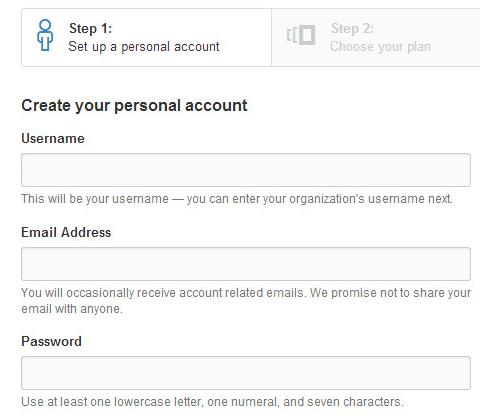field: (19, 245, 471, 284), (20, 151, 473, 188), (18, 354, 472, 390)
field_with_label: (14, 225, 474, 286), (14, 334, 474, 392), (17, 132, 475, 190)
